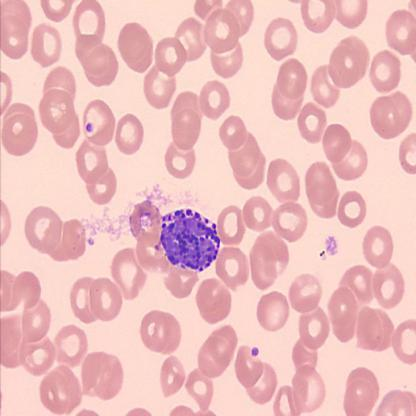Basophil: (156, 205, 222, 275)
